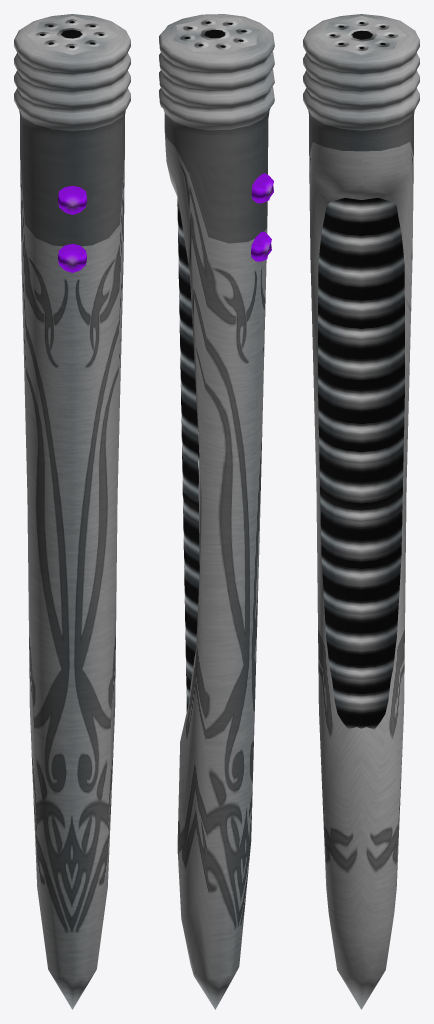
File: saber-grace.obj
3 renders of one model, left to right at view 1: azimuth 90°, elevation 25°; view 2: azimuth 150°, elevation 25°; view 3: azimuth 270°, elevation 25°, orthographic.
Visible parts, largest first — view 1: models/saber_grace; view 2: models/saber_grace; view 3: models/saber_grace.
Part boxes in pixels (x1=…): models/saber_grace: x1=14, y1=14, x2=130, y2=1009; models/saber_grace: x1=159, y1=14, x2=274, y2=1009; models/saber_grace: x1=303, y1=14, x2=419, y2=1009.
Bounding box in the file's own units: 1.55 × 13.81 × 1.5.
Materials: 2 (2 with a texture image).
